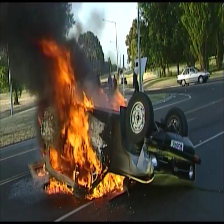fire_h: (39, 38, 109, 189), (84, 172, 125, 199), (45, 177, 74, 195)
fire_l: (110, 88, 126, 110), (38, 163, 49, 177), (100, 88, 107, 102)
